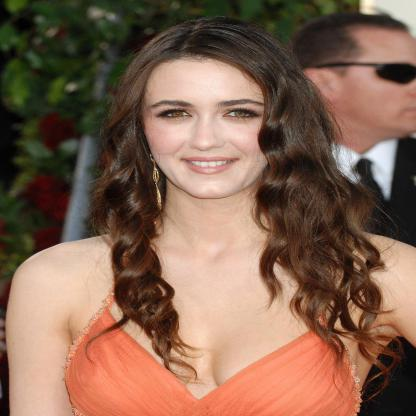long-hair: (98, 201, 361, 262)
